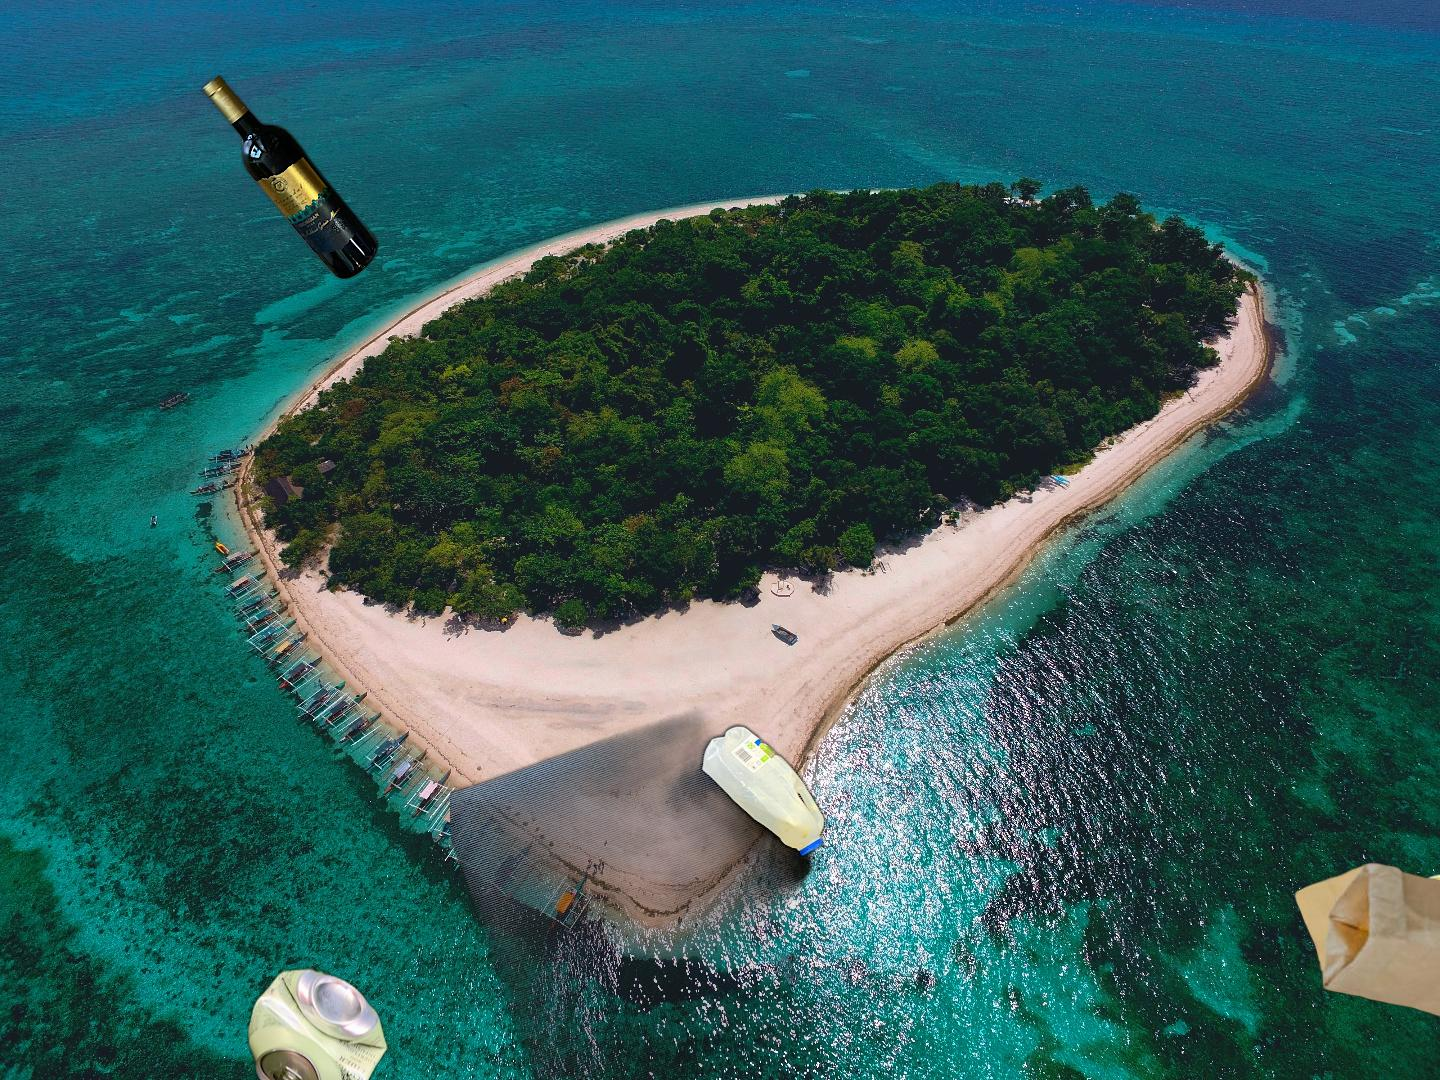glass: (198, 69, 383, 286)
metal-cans: (244, 962, 392, 1080)
paper-bag: (1291, 822, 1440, 1021)
penholder: (1422, 864, 1440, 1041)
plastic-bottles: (450, 641, 962, 1080)
trashbox-cardboard: (1358, 304, 1440, 611)
